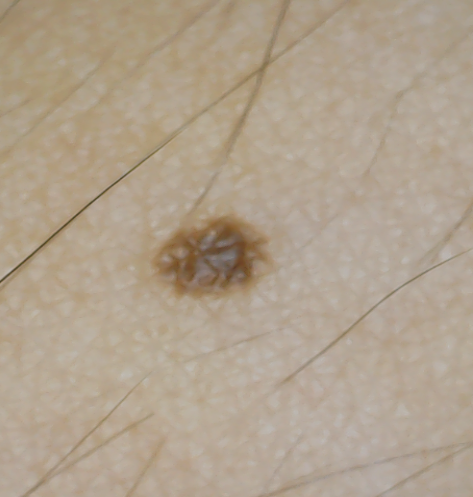Normal: (154, 214, 269, 301)
